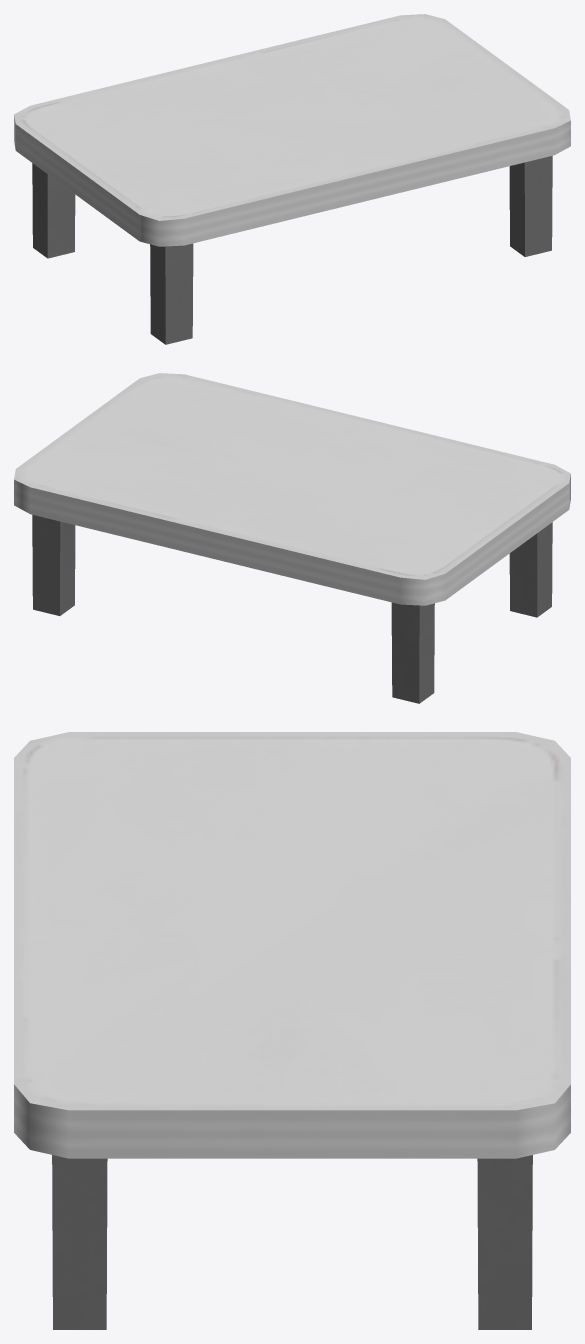
File: Pfb_Table__11.fbx
3 views of the same model, one above another, from view 1: azimuth 30°, elevation 25°; view 2: azimuth 150°, elevation 25°; view 3: azimuth 270°, elevation 25° (orthographic). The views are drawn at different scales.
Parts seen in each view (by area): view 1: Mat_Table_03_Yellow; view 2: Mat_Table_03_Yellow; view 3: Mat_Table_03_Yellow.
Part boxes in pixels (x1=…): Mat_Table_03_Yellow: x1=14, y1=14, x2=570, y2=344; Mat_Table_03_Yellow: x1=14, y1=373, x2=570, y2=703; Mat_Table_03_Yellow: x1=14, y1=732, x2=570, y2=1329.
Size of the model in its own units: 2.36 by 0.6944 by 1.47.
1 material, 1 textured.
